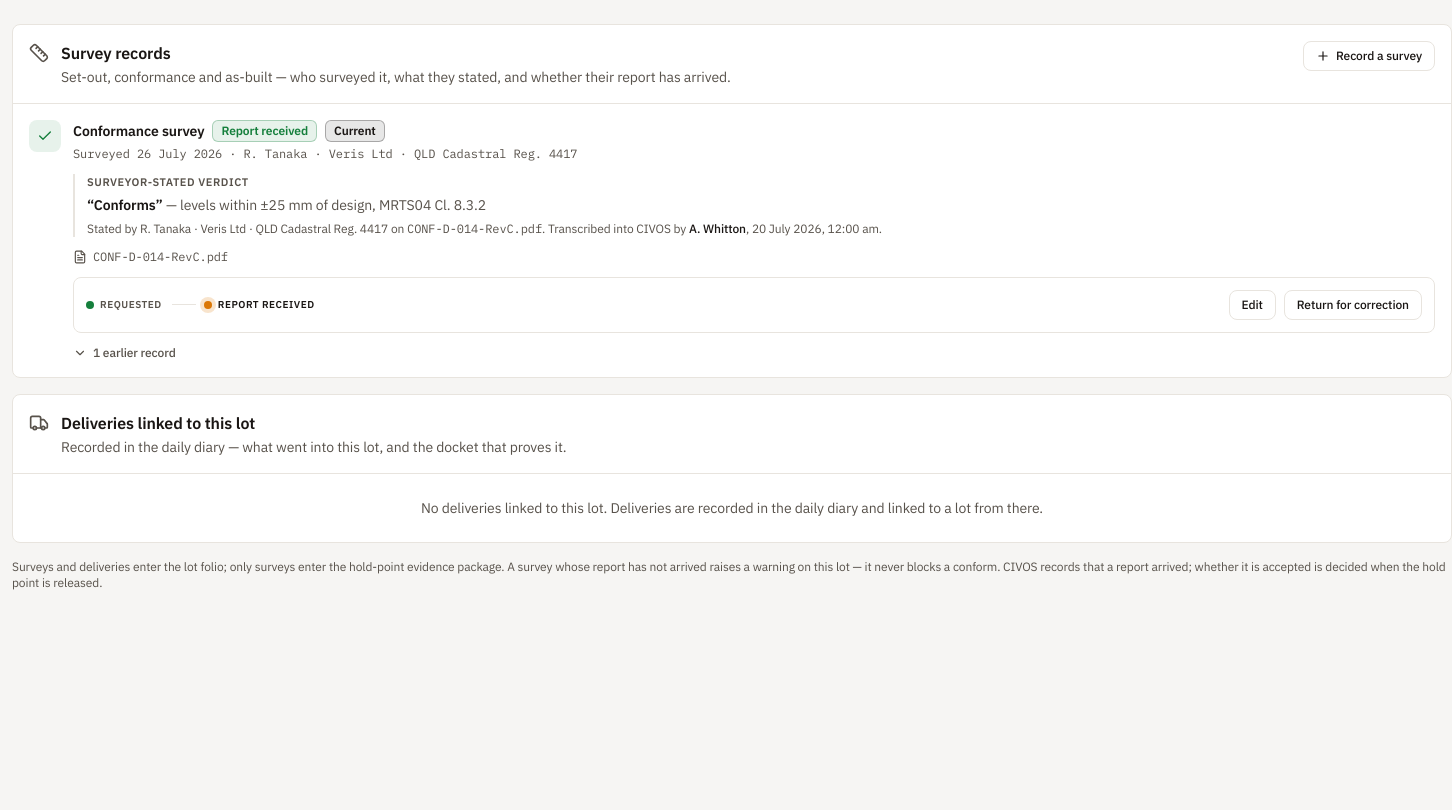
Scenario: supersession › states when no supersession reason was recorded instead of styling over it
What coordinates should you click on to do the following:
click the button "1 earlier record"
I would click on:
 (124, 352)
Its box is x1=73 y1=344 x2=176 y2=360.
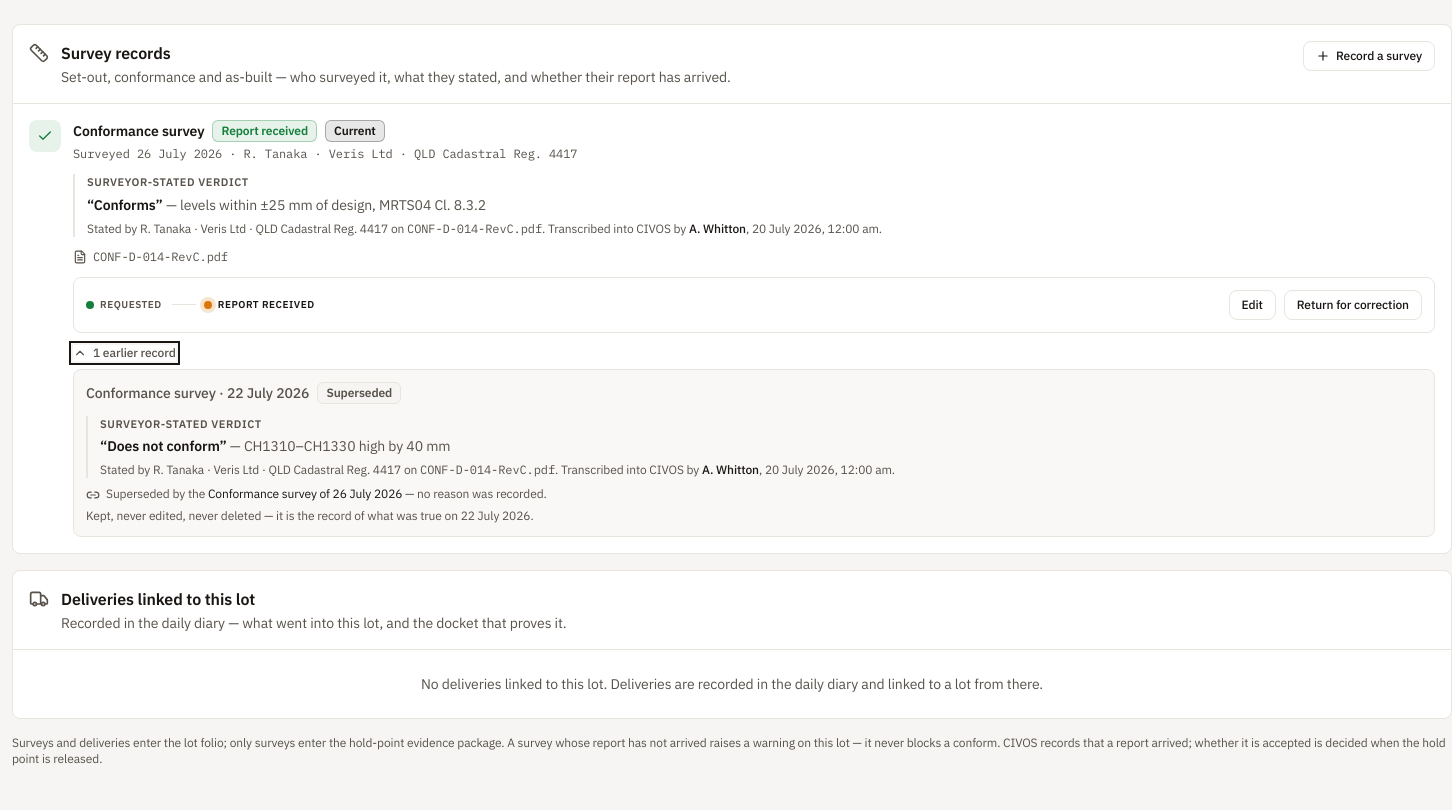
Result: the text "no reason was recorded" is shown at x1=402 y1=486 x2=547 y2=501
